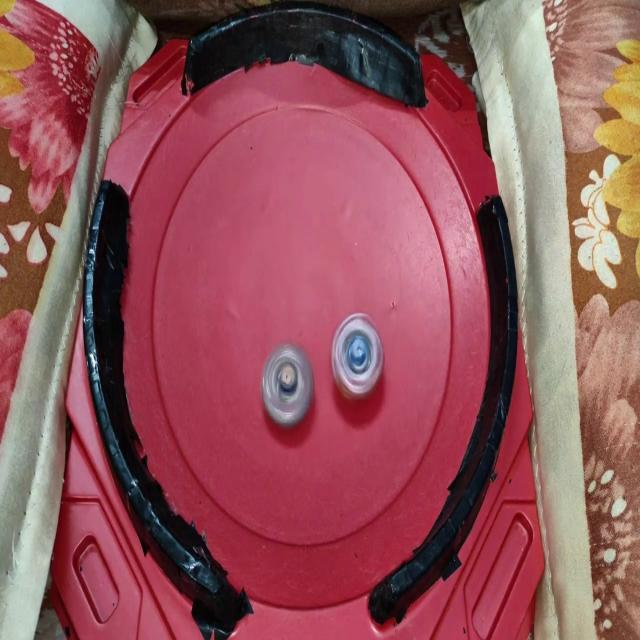Beyblade: (332, 313, 384, 396), (261, 343, 312, 424)
